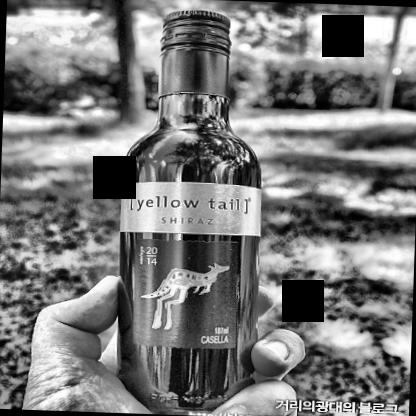yellowtail: (115, 178, 270, 366)
